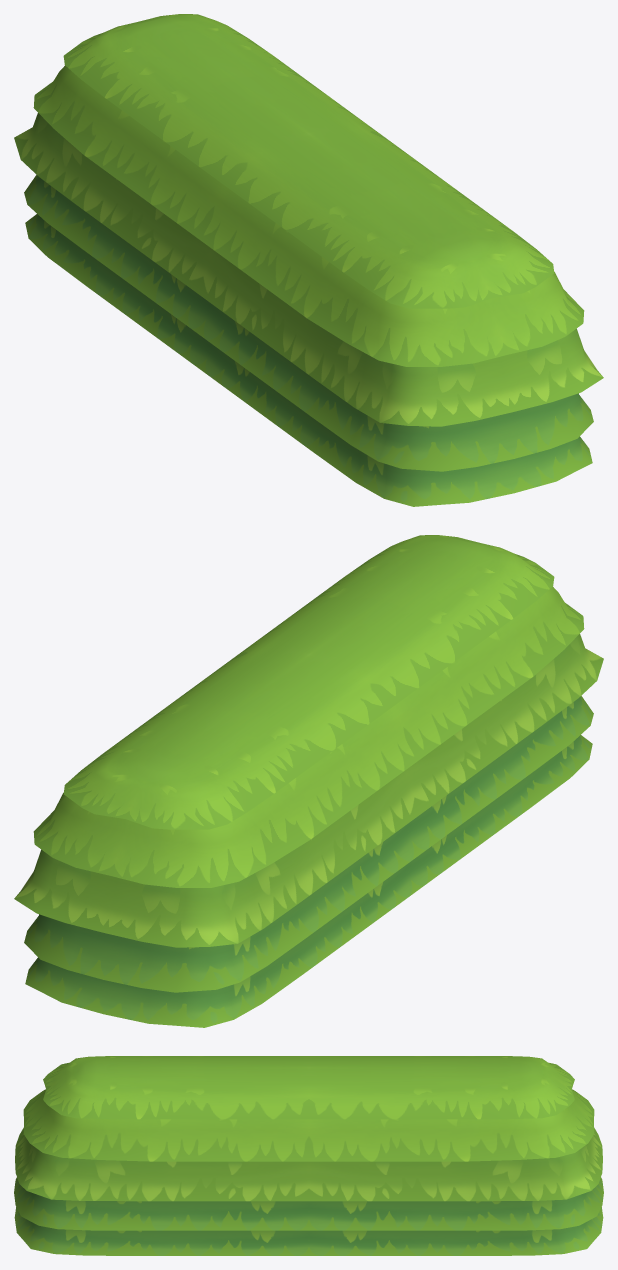
The model's file is Fence_Bush.fbx.
3 renders of one model, top to bottom at view 1: azimuth 30°, elevation 25°; view 2: azimuth 150°, elevation 25°; view 3: azimuth 270°, elevation 25°, orthographic. The views are drawn at different scales.
Visible parts, largest first — view 1: Cube; view 2: Cube; view 3: Cube.
Part boxes in pixels (x1,y1,x2,y2): Cube: [14, 14, 603, 506]; Cube: [14, 535, 603, 1027]; Cube: [14, 1056, 603, 1255].
Bounding box in the file's own units: 1.41 × 1.41 × 4.44.
